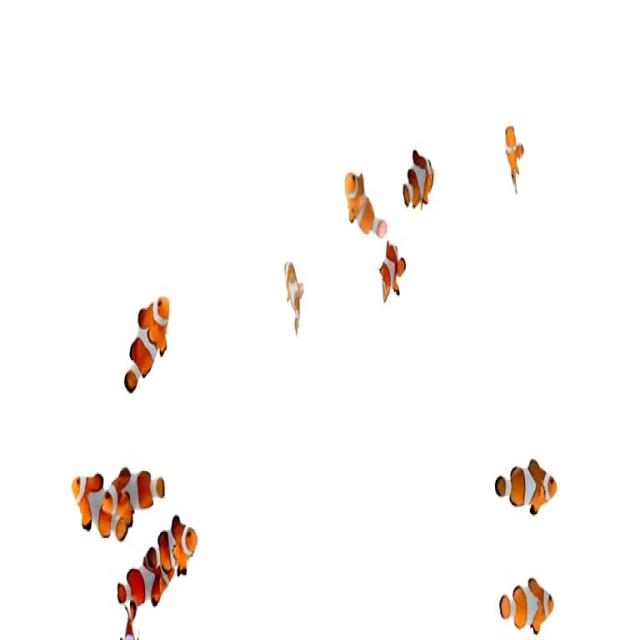fish: (116, 274, 174, 412), (68, 454, 135, 548), (494, 450, 565, 523), (338, 148, 387, 243), (148, 516, 206, 596), (99, 457, 173, 517), (487, 574, 569, 628), (374, 230, 414, 315), (280, 245, 309, 354), (400, 138, 438, 220), (504, 110, 526, 194)
